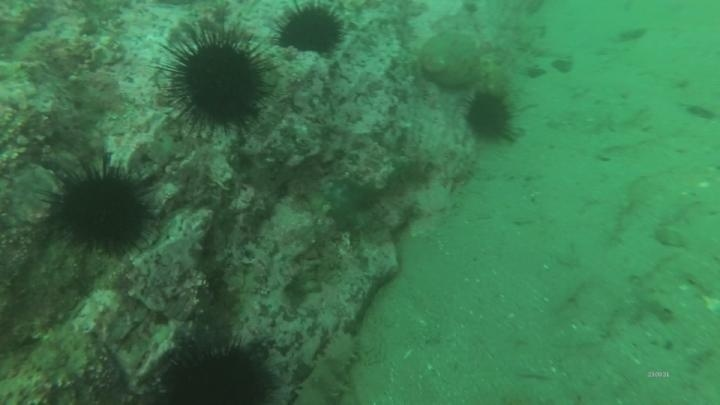echinus: (158, 23, 274, 137), (42, 155, 160, 259), (157, 335, 279, 405), (272, 2, 348, 58), (461, 87, 519, 145)
holothurian: (292, 327, 363, 405), (441, 135, 481, 192)
